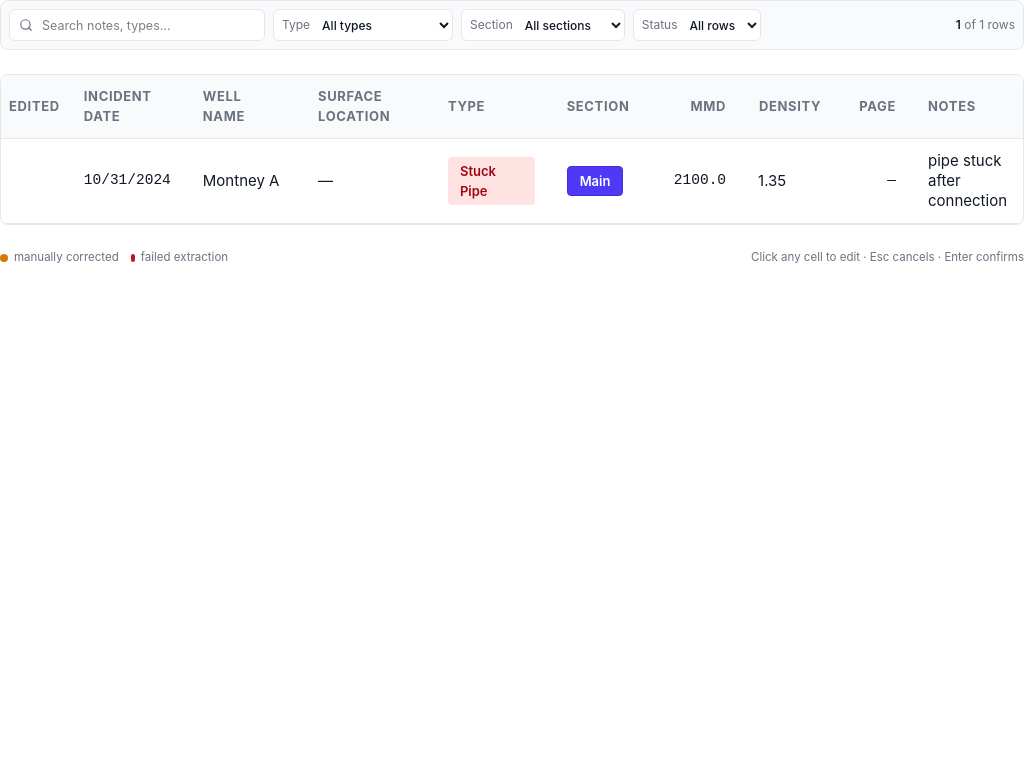
OccurrenceTable › opens a full notes editor so long notes are readable before saving
Click the text "pipe stuck after connection": {"x": 965, "y": 160} [912,138,1023,224]
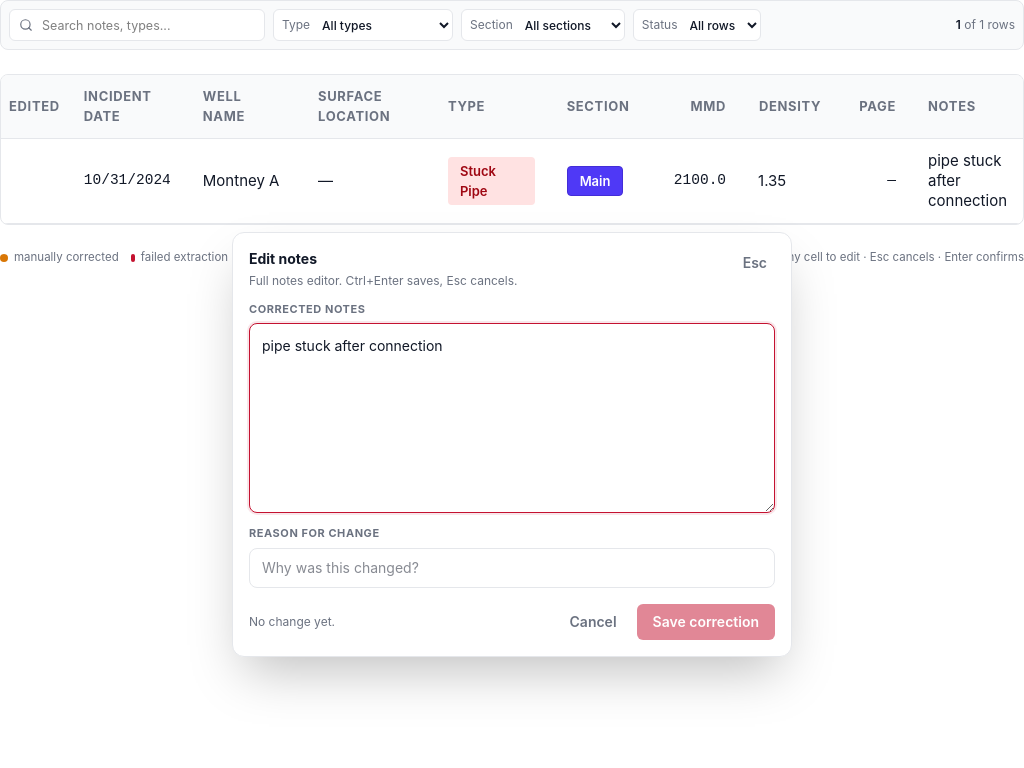
Expected: the dialog "Edit notes" is shown, [232,232,792,656]
Replace the text in the text box showing "pipe stuck after connection" with "updated full notes with more context": {"x": 512, "y": 418} [249,323,775,513]
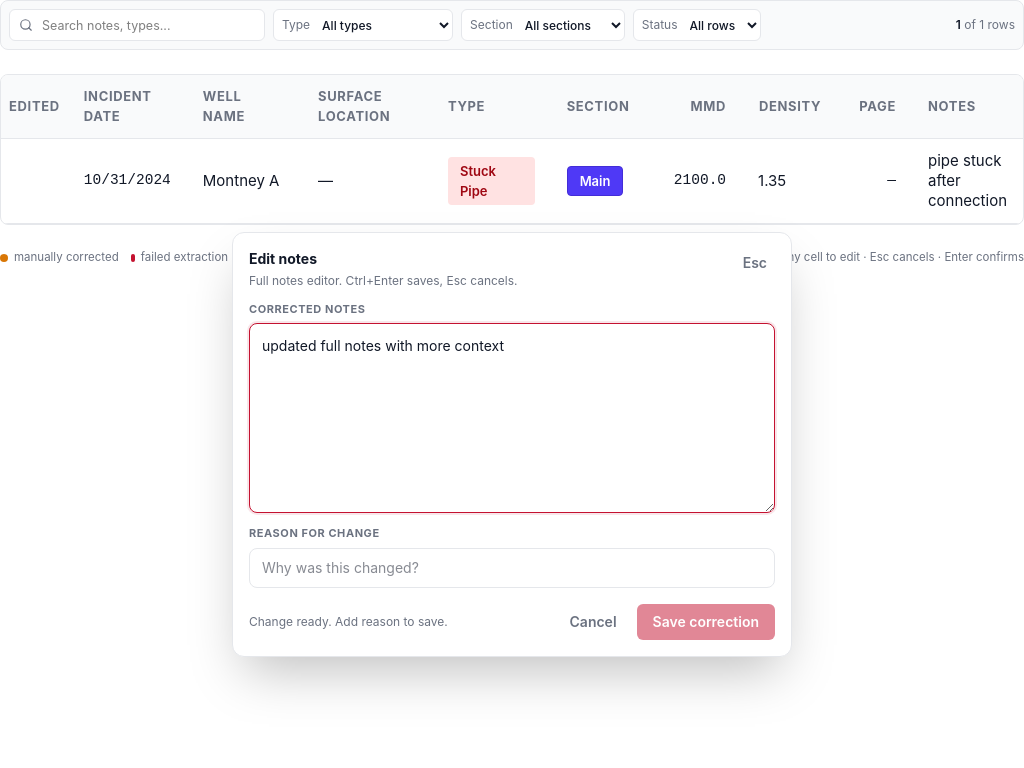
In the field with placeholder "Why was this changed?": {"x": 512, "y": 568} [249,548,775,588], type "field note corrected"
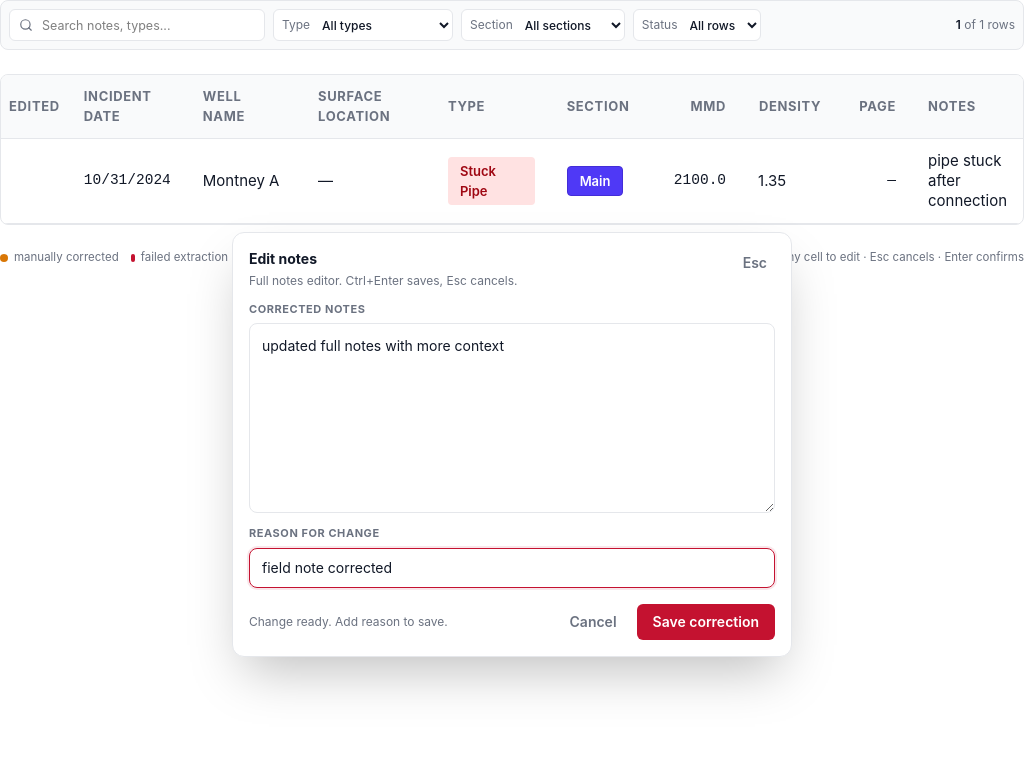
Click the button "Save correction": {"x": 706, "y": 622} [637,604,775,640]
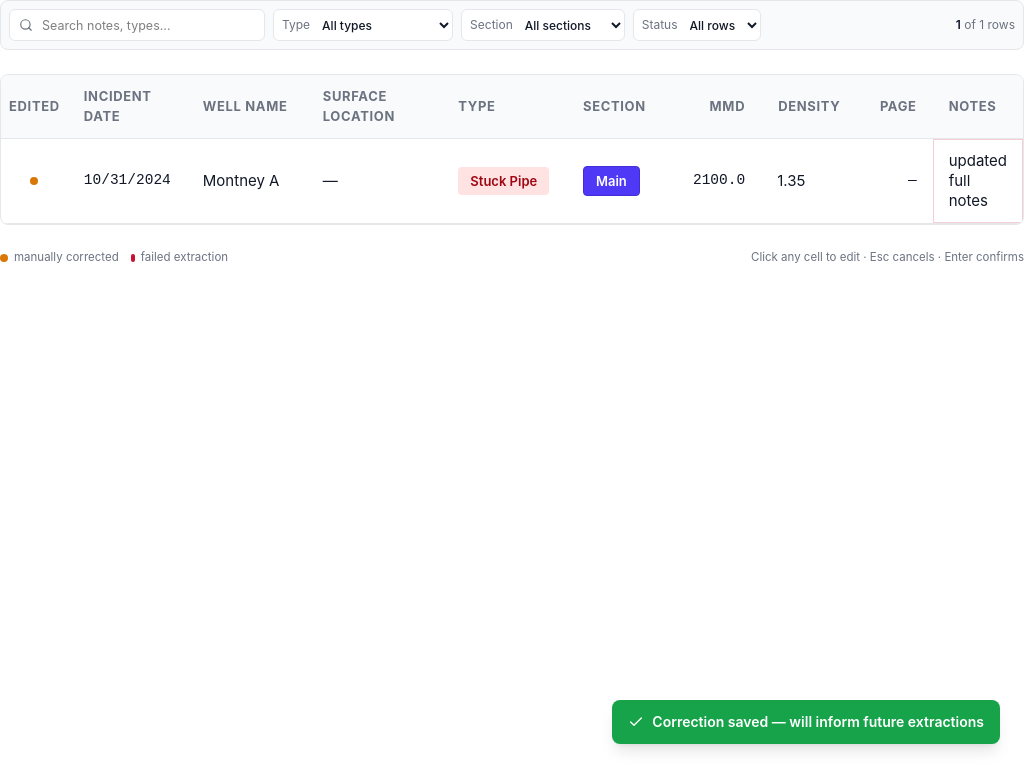
Expected: the heading "Edit notes" is gone
